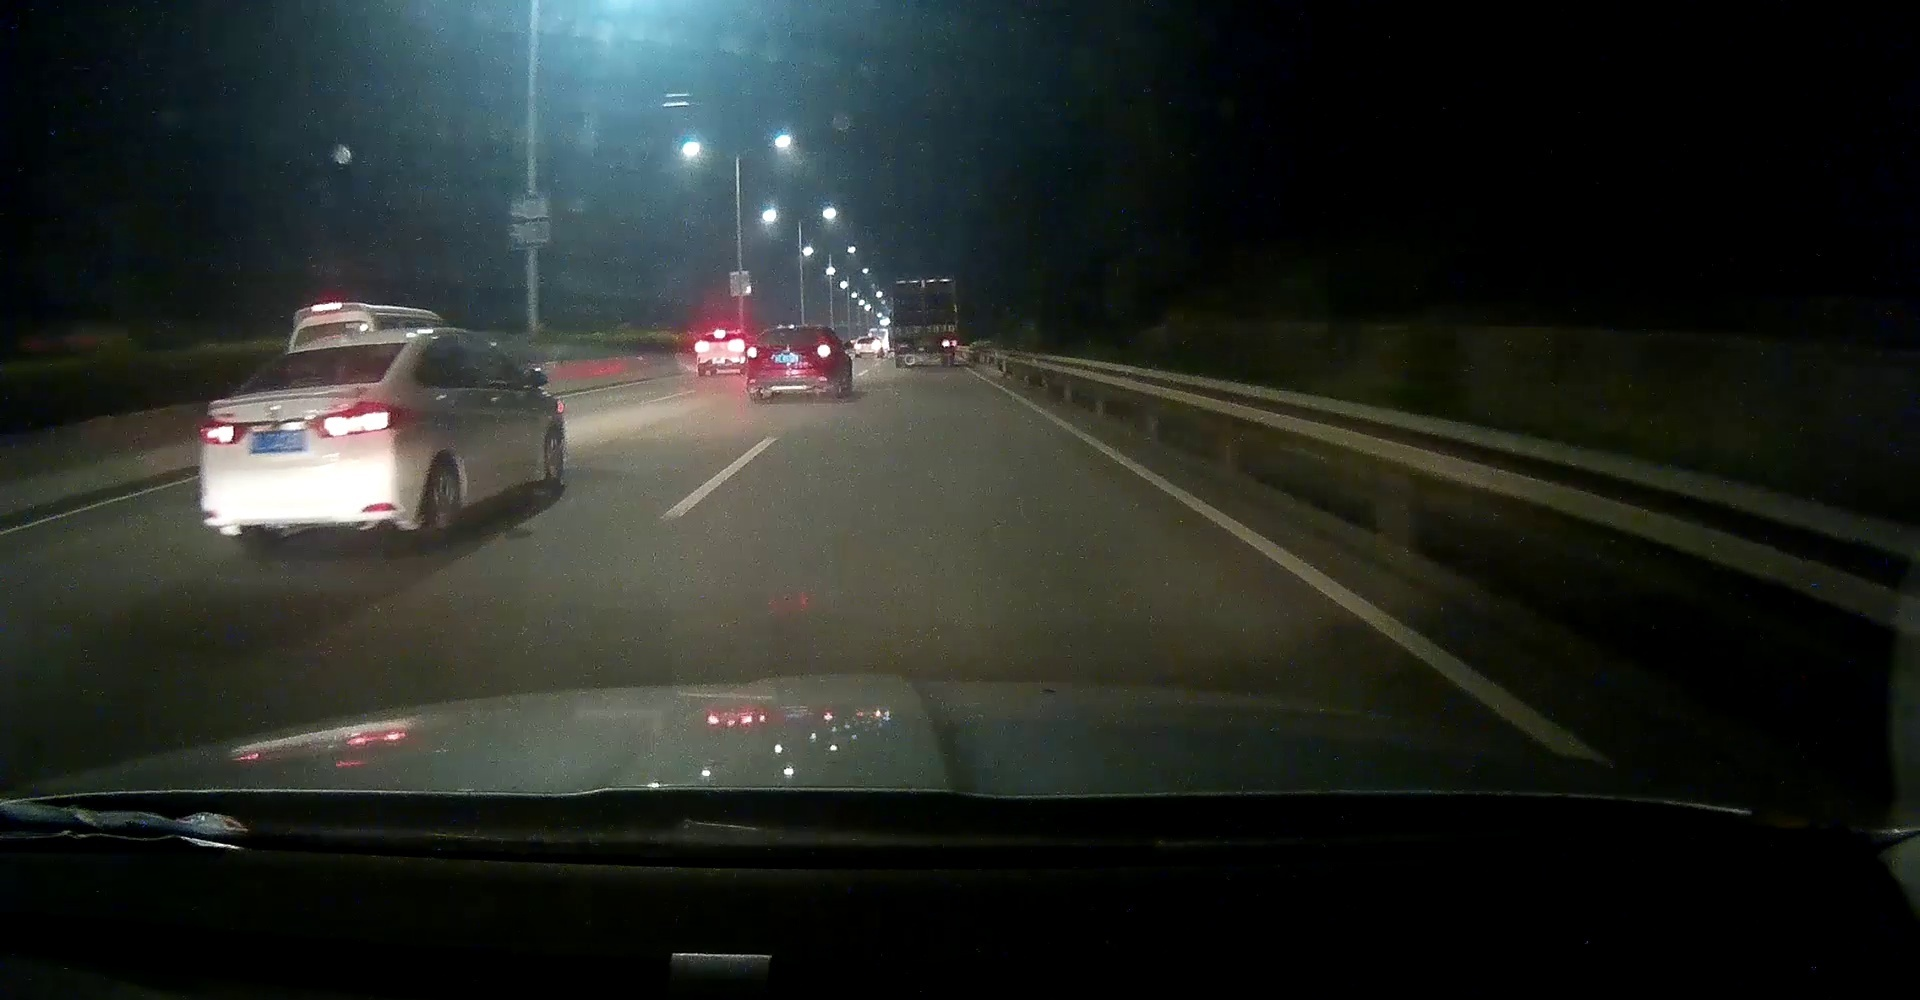L_light: (201, 418, 249, 444), (745, 346, 758, 359)
R_light: (312, 400, 401, 438), (817, 344, 830, 357)
T_light: (291, 376, 324, 386), (785, 327, 800, 332)
night-no: (198, 332, 414, 542), (745, 324, 834, 400)
